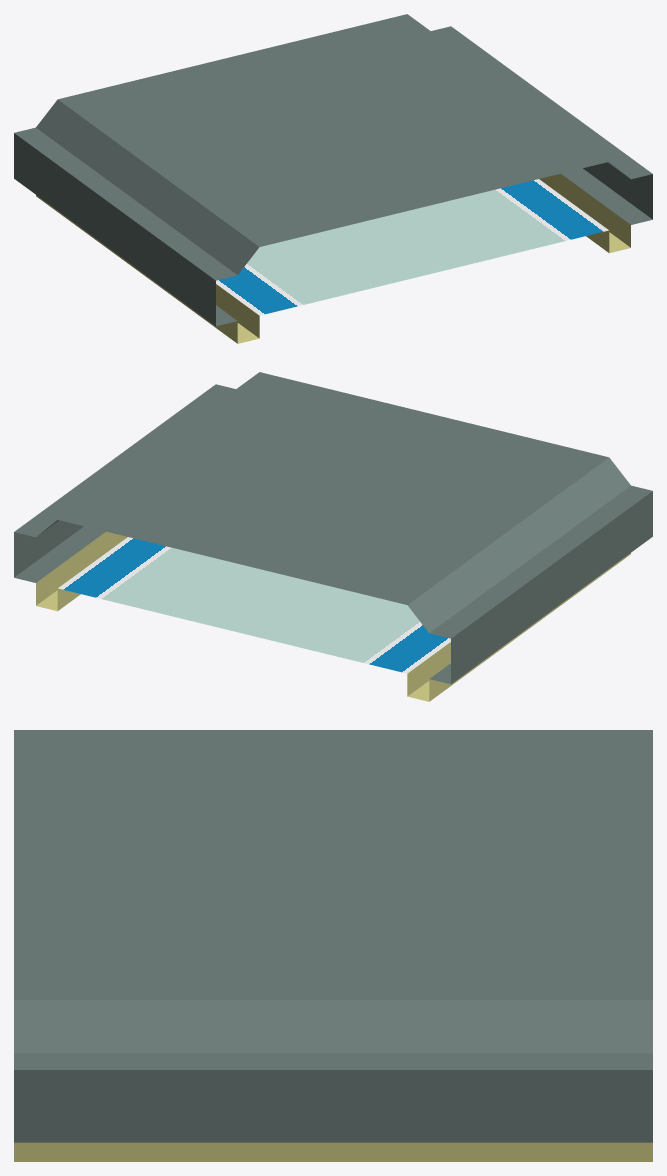
The model's file is T0_Generic_NoCap.obj.
3 views of the same model, one above another, from view 1: azimuth 30°, elevation 25°; view 2: azimuth 150°, elevation 25°; view 3: azimuth 270°, elevation 25° (orthographic). The views are drawn at different scales.
Visible parts, largest first — view 1: T0_Generic_NoCap; view 2: T0_Generic_NoCap; view 3: T0_Generic_NoCap.
Part boxes in pixels (x1,y1,x2,y2): T0_Generic_NoCap: [14, 14, 652, 343]; T0_Generic_NoCap: [14, 372, 652, 701]; T0_Generic_NoCap: [14, 730, 652, 1161].
Size of the model in its own units: 10 by 2 by 8.
